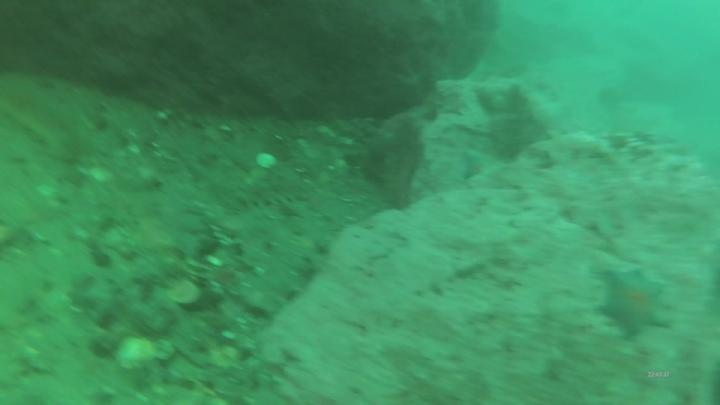holothurian: (1, 87, 85, 164), (236, 173, 318, 211)
starfish: (597, 265, 679, 346)
